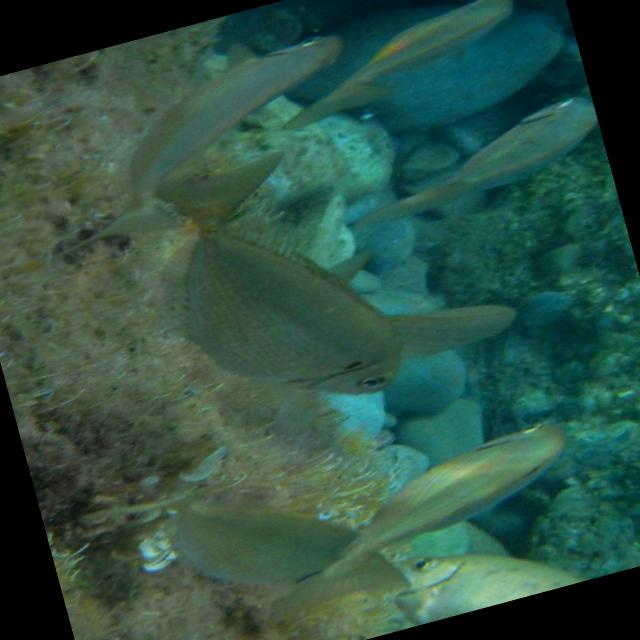Sokar Baligi: (102, 121, 432, 450), (215, 385, 624, 640), (260, 0, 556, 146)
